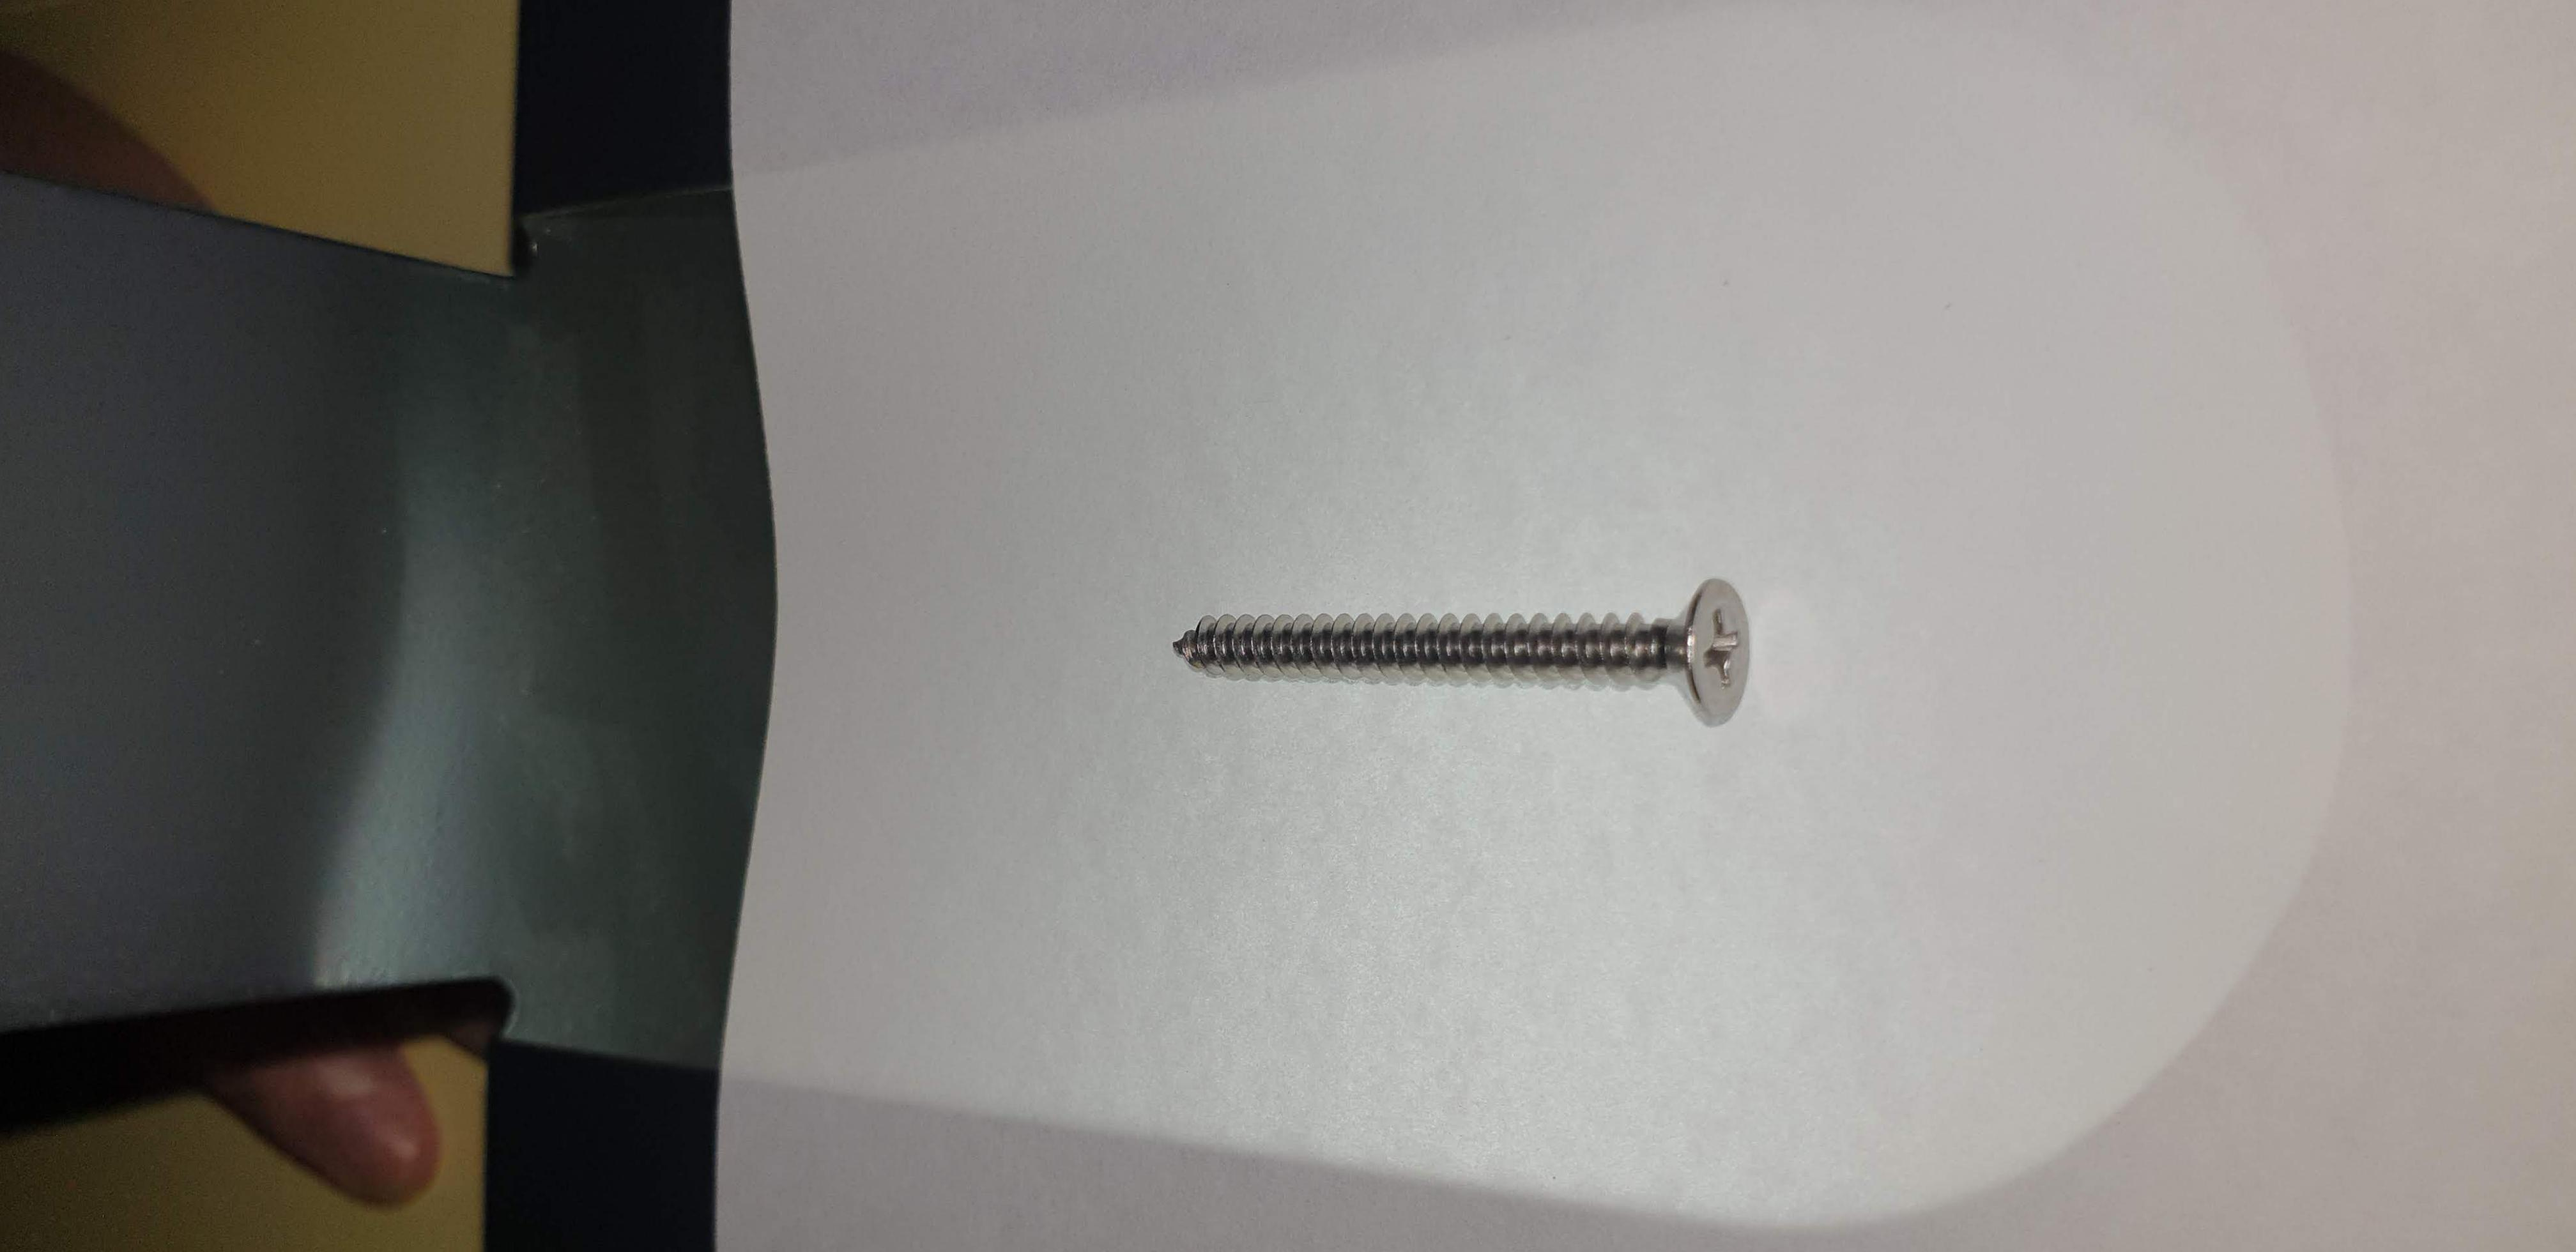fastener: (1055, 511, 1996, 795)
